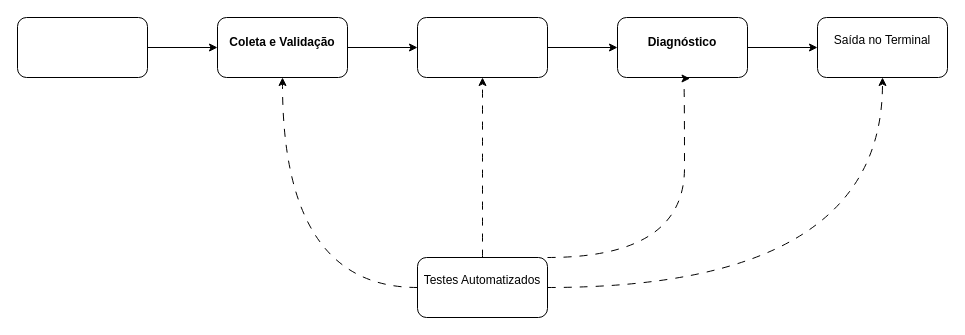
Some shapes in this 965 by 335 pixel diagram are drawn without their labels. Each missing label, with the centre of its shape:
Arquivos de Entrada: (82,47)
Processamento: (482,47)
